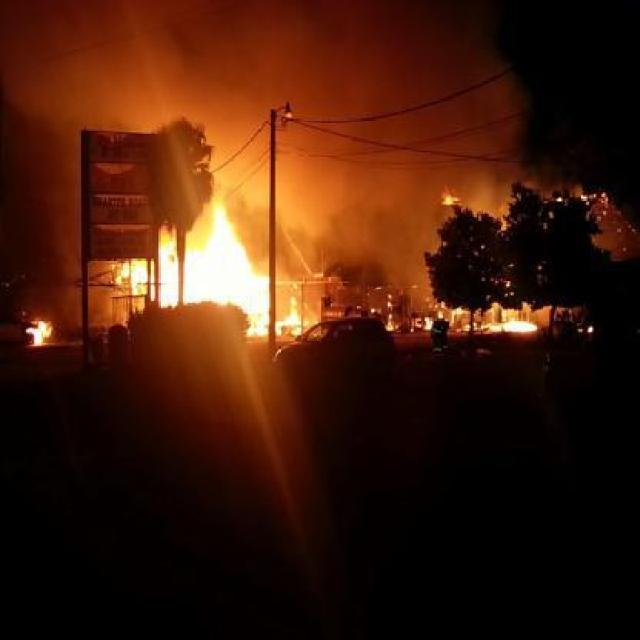Fire: (105, 198, 276, 340), (276, 289, 310, 342), (472, 316, 535, 338), (28, 317, 54, 348)
